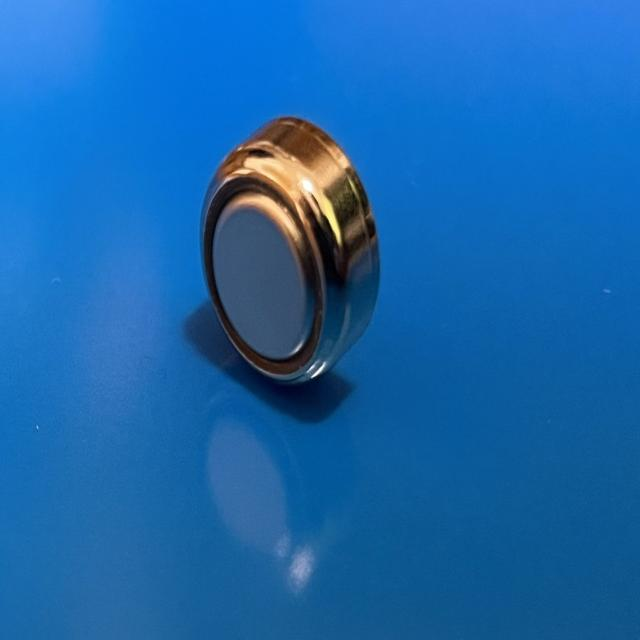COIN: (198, 112, 382, 392)
